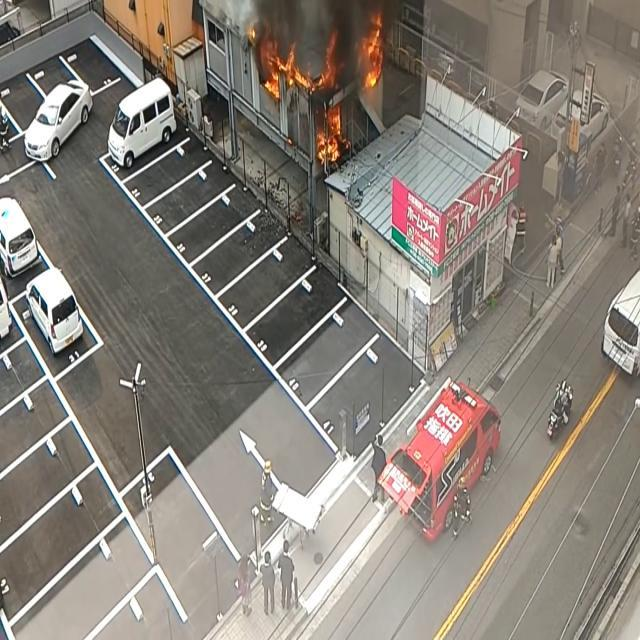Fire: (262, 44, 318, 98), (360, 5, 386, 96), (316, 95, 344, 170)
